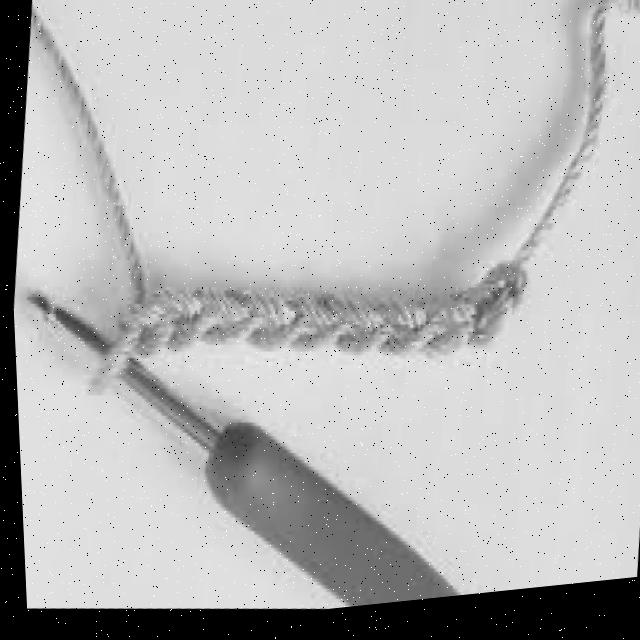ch: (325, 297, 389, 362), (238, 295, 307, 354), (281, 296, 341, 361), (371, 309, 438, 364), (453, 290, 506, 357), (414, 310, 473, 369), (148, 293, 210, 349), (196, 294, 255, 350), (119, 310, 175, 361), (487, 275, 523, 324)
